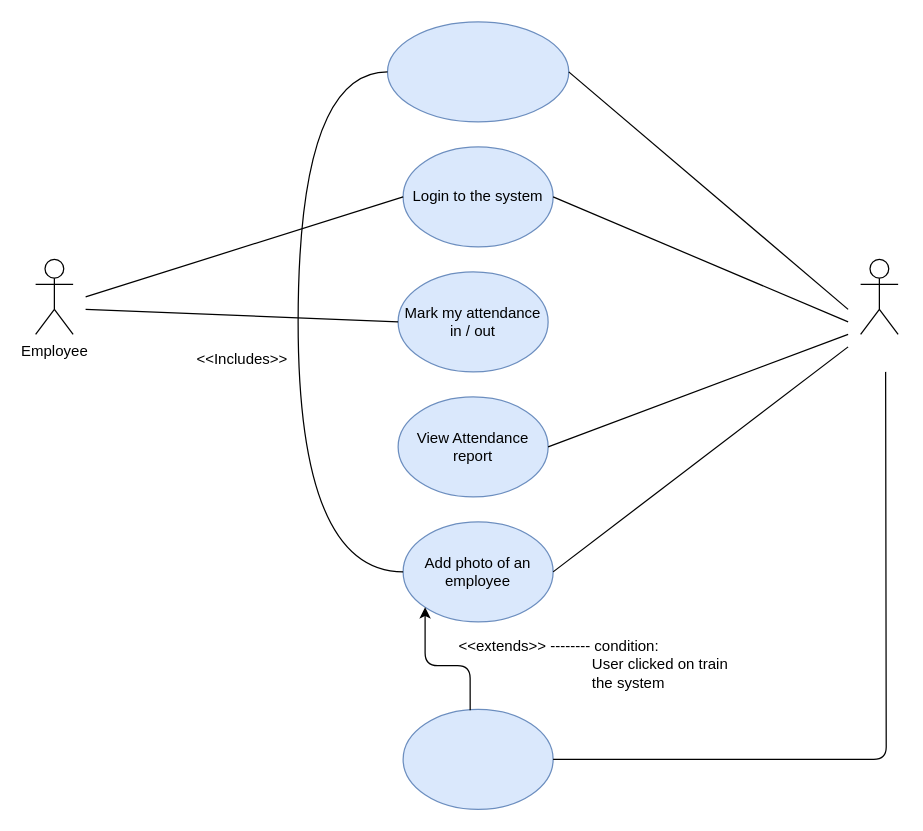
This 923x831 diagram has some shape labels left out. The centre of each missing label's shape, as x and y in pixels:
"Admin" goes at pixel 878 296.
"Register new employee" goes at pixel 477 71.
"Train the System" goes at pixel 477 758.
